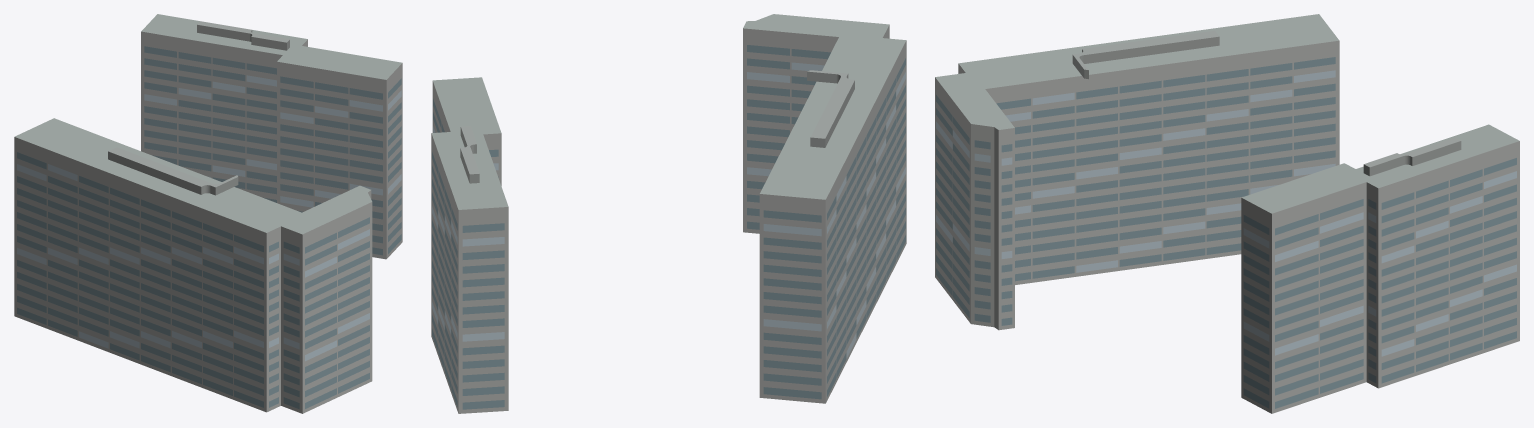
File: apt-a10024829.glb
3 renders of one model, left to right at view 1: azimuth 30°, elevation 25°; view 2: azimuth 150°, elevation 25°; view 3: azimuth 270°, elevation 25°, orthographic. The views are drawn at different scales.
Visible parts, largest first — view 1: apt-a10024829; view 2: apt-a10024829; view 3: apt-a10024829.
Boxes of the visible parts, x1,y1,x2,y2 form: apt-a10024829: (14, 14, 402, 413); apt-a10024829: (431, 14, 906, 413); apt-a10024829: (935, 14, 1519, 413).
Bounding box in the file's own units: 97.95 × 47.81 × 121.
